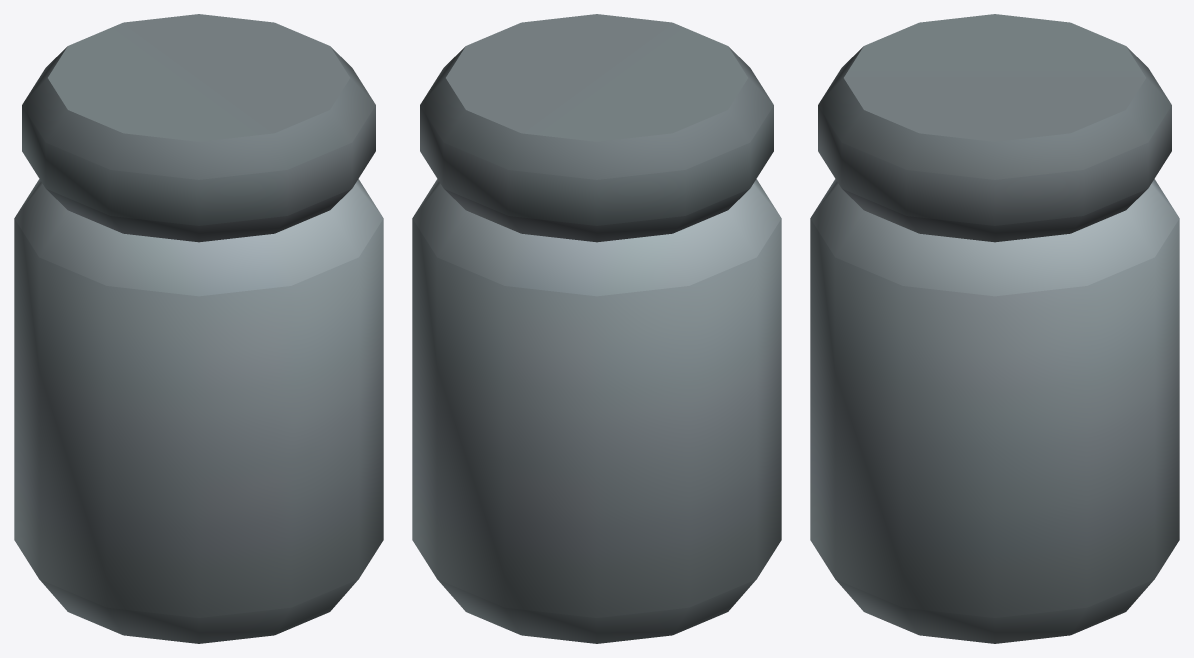
The model's file is kay-pote-b.gltf.
3 renders of one model, left to right at view 1: azimuth 30°, elevation 25°; view 2: azimuth 150°, elevation 25°; view 3: azimuth 270°, elevation 25°, orthographic.
Visible parts, largest first — view 1: jar_B_large; view 2: jar_B_large; view 3: jar_B_large.
Part boxes in pixels (x1,y1,x2,y2): jar_B_large: [14, 14, 383, 643]; jar_B_large: [412, 14, 781, 643]; jar_B_large: [810, 14, 1179, 643].
Size of the model in its own units: 0.325 by 0.4875 by 0.325.
Materials: 1 (1 with a texture image).
